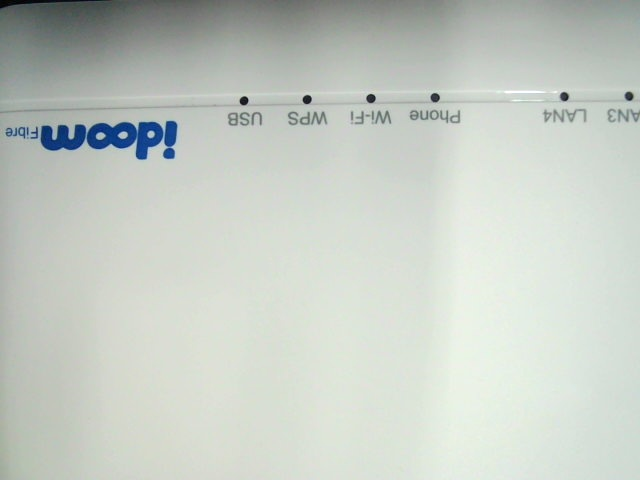BB_idoom: (0, 110, 195, 171)
